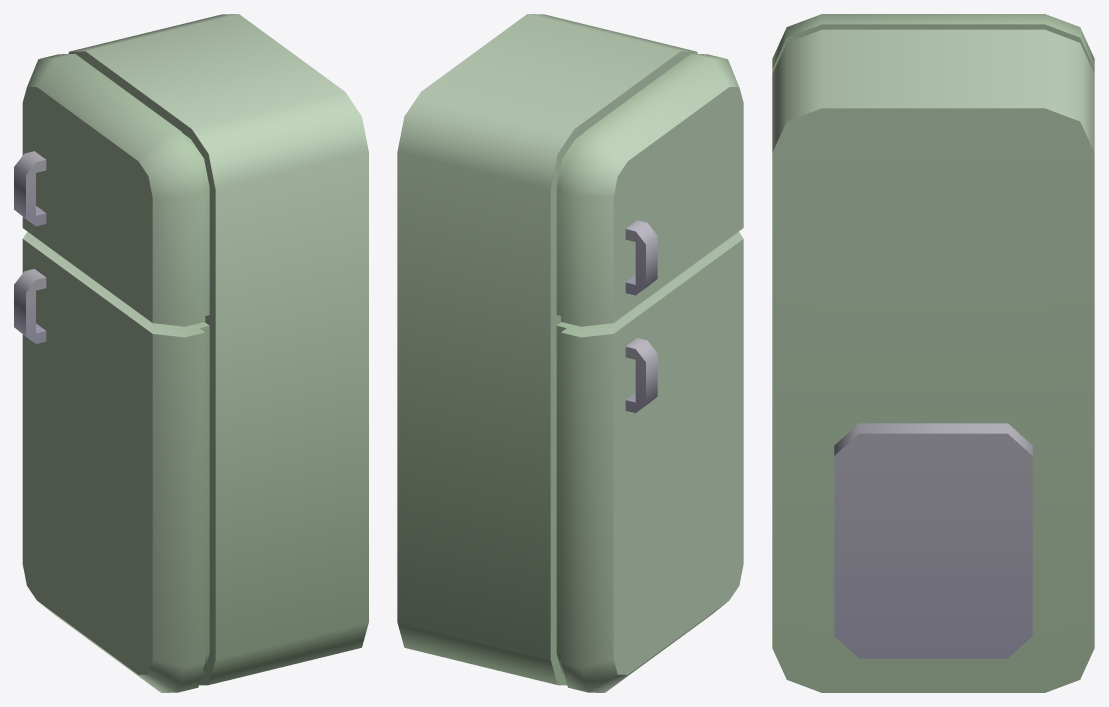
File: fridge-retro-freezer.glb
The picture shows the model from 3 angles, left to right: view 1: azimuth 30°, elevation 25°; view 2: azimuth 150°, elevation 25°; view 3: azimuth 270°, elevation 25°; orthographic projection. The views are drawn at different scales.
Parts seen in each view (by area): view 1: fridge-retro-freezer; view 2: fridge-retro-freezer; view 3: fridge-retro-freezer.
Part boxes in pixels (bbox=[...]): fridge-retro-freezer: bbox=[14, 14, 368, 692]; fridge-retro-freezer: bbox=[397, 14, 743, 692]; fridge-retro-freezer: bbox=[772, 14, 1094, 692].
Bounding box in the file's own units: 0.6 × 1.3 × 0.65.
